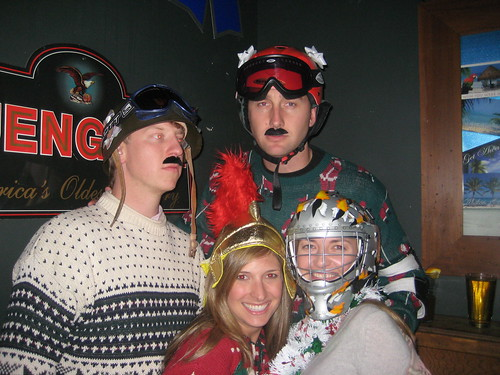helmet: (230, 38, 329, 91), (280, 198, 372, 231)
